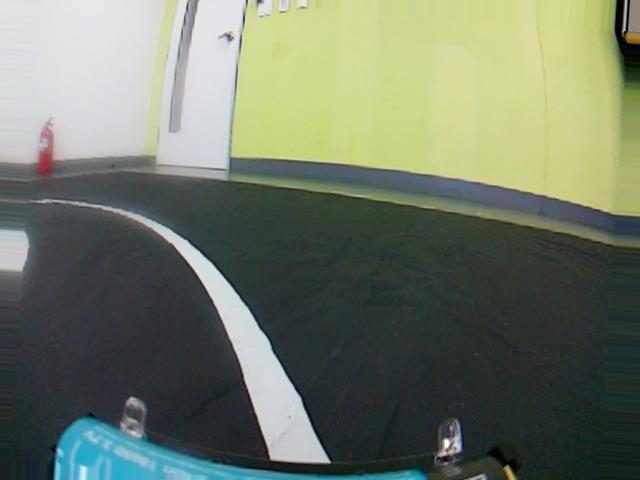left: (0, 203, 494, 479)
